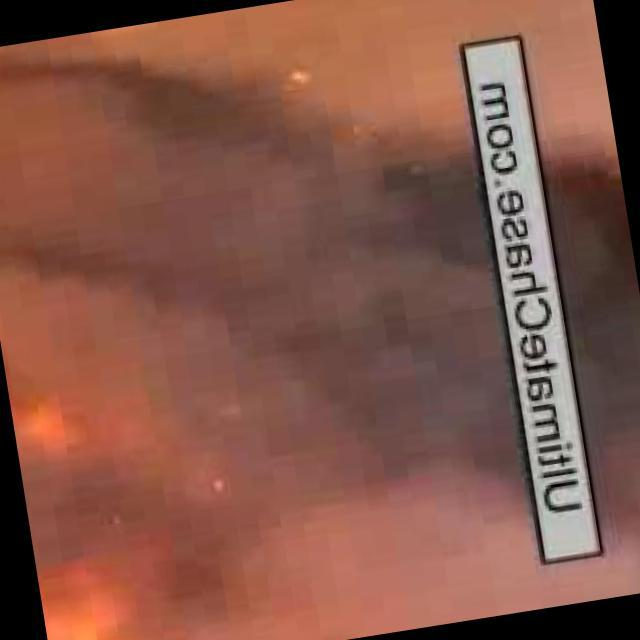Fire: (35, 535, 179, 640), (7, 368, 97, 464)
